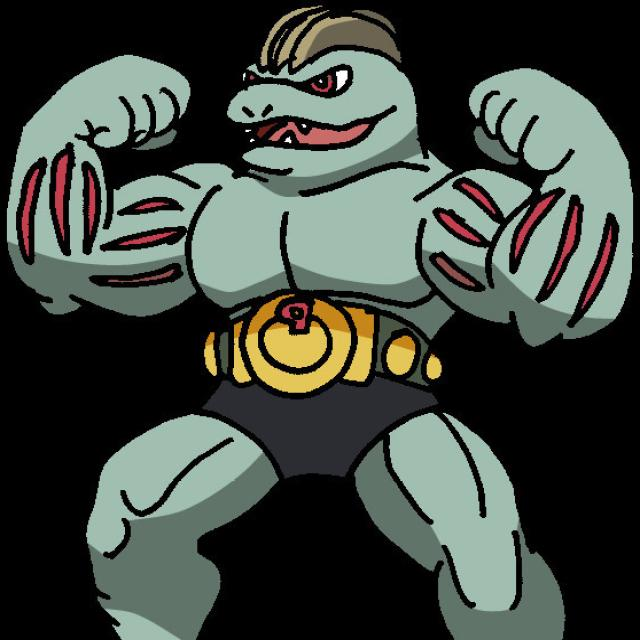Machoke: (71, 3, 536, 640)
